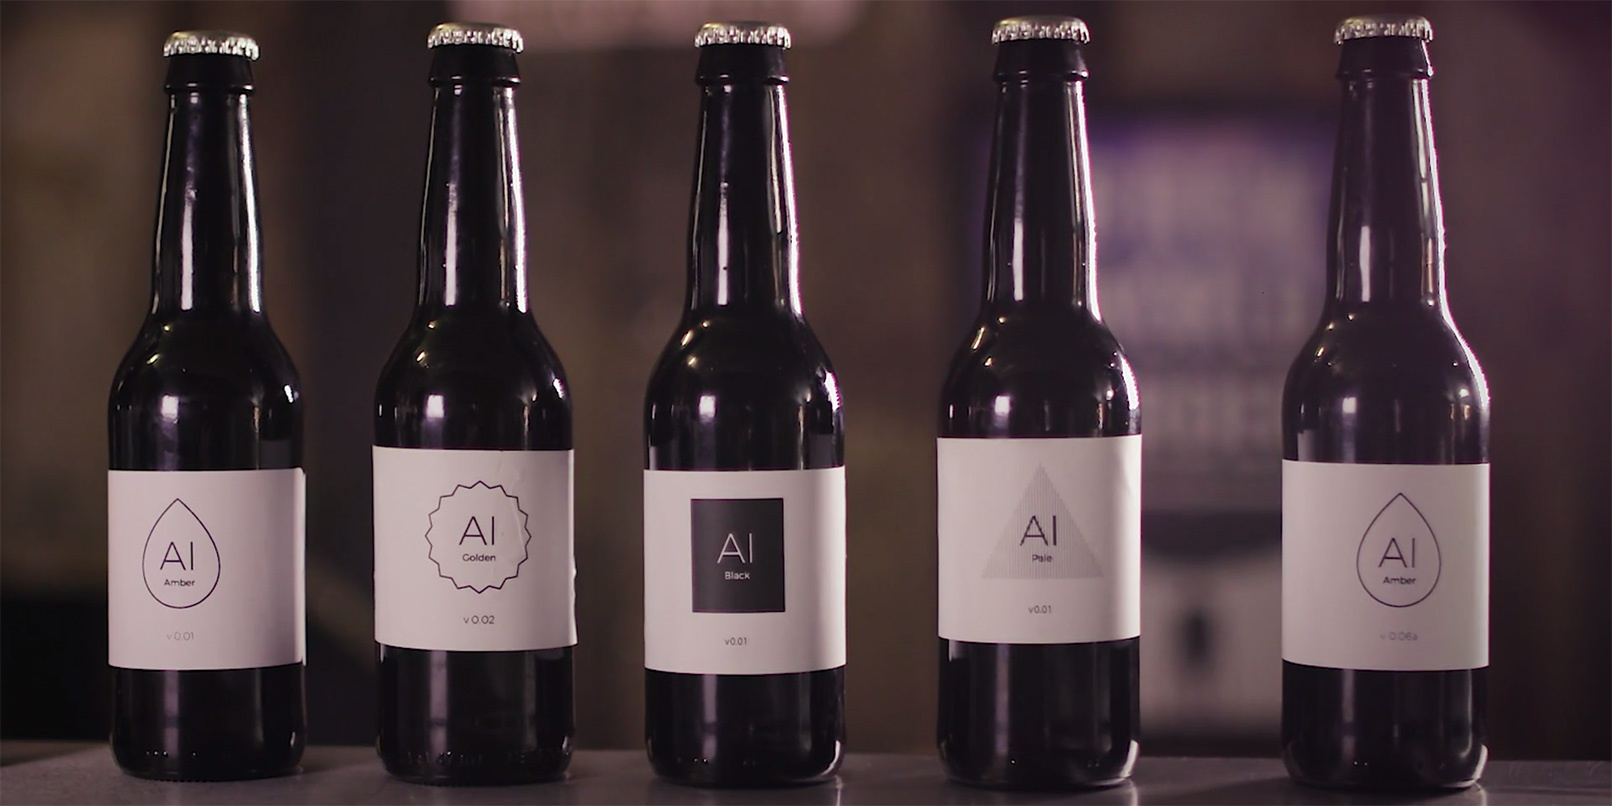beerBottle: (642, 26, 851, 777), (935, 25, 1144, 776), (105, 27, 314, 778), (372, 24, 581, 775), (1284, 29, 1493, 780)
